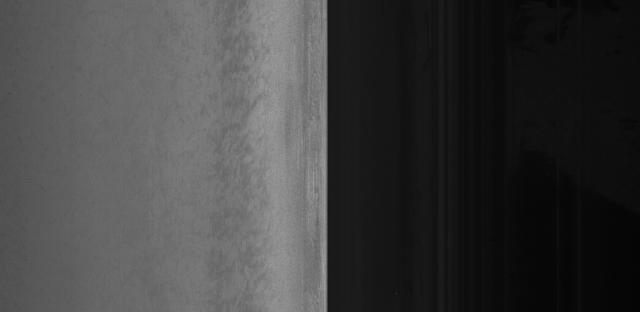silk_spot: (216, 104, 266, 191)
